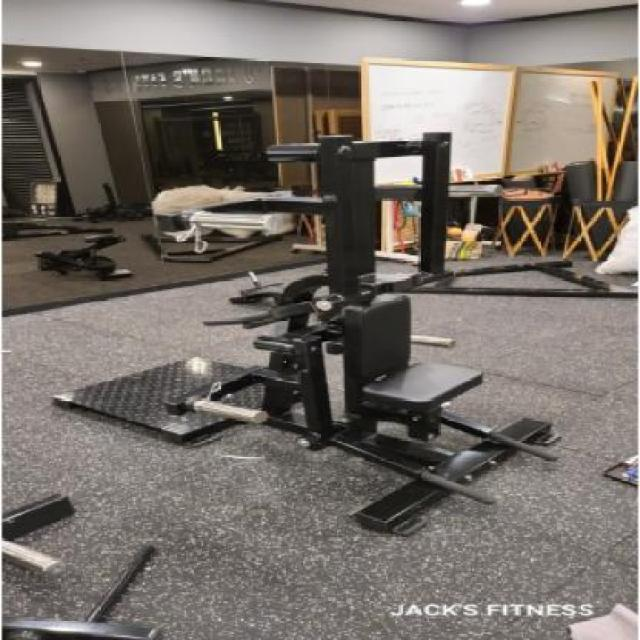lateral raises machine: (254, 275, 574, 540)
